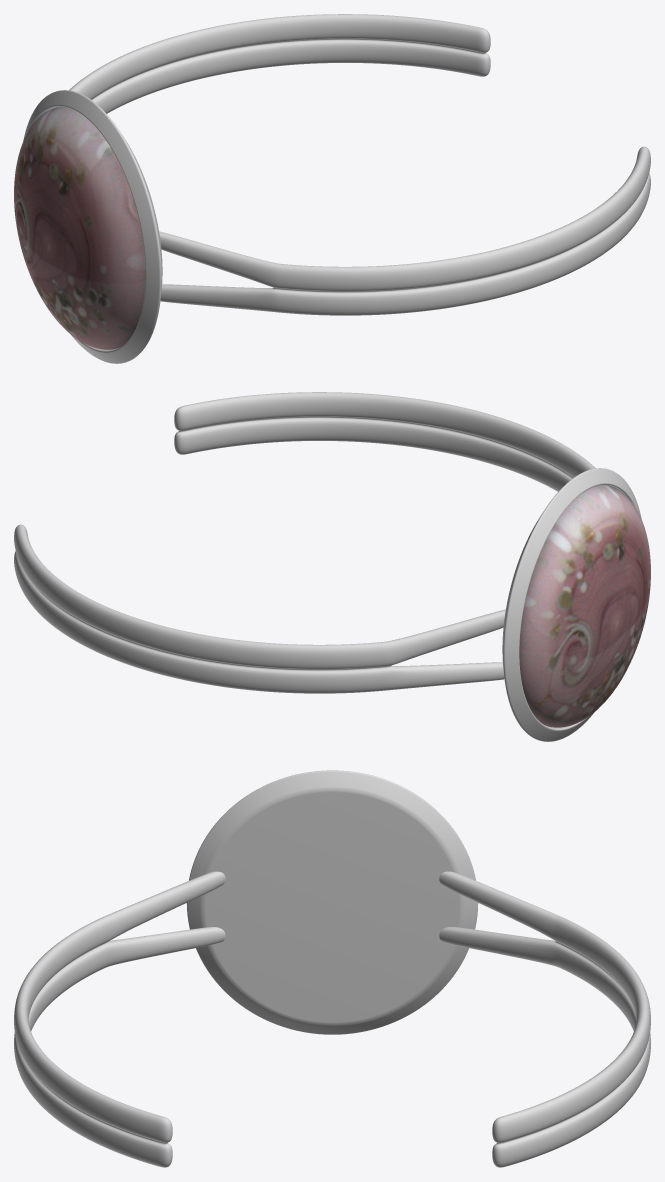
The picture shows the model from 3 angles, top to bottom: view 1: azimuth 30°, elevation 25°; view 2: azimuth 150°, elevation 25°; view 3: azimuth 270°, elevation 25°; orthographic projection. The views are drawn at different scales.
Visible parts, largest first — view 1: bijou; view 2: bijou; view 3: bijou.
Boxes of the visible parts, x1=… form: bijou: x1=14, y1=14, x2=650, y2=363; bijou: x1=14, y1=392, x2=650, y2=741; bijou: x1=14, y1=770, x2=650, y2=1167.
Size of the model in its own units: 12.87 by 5.99 by 13.09.
2 materials, 1 textured.
